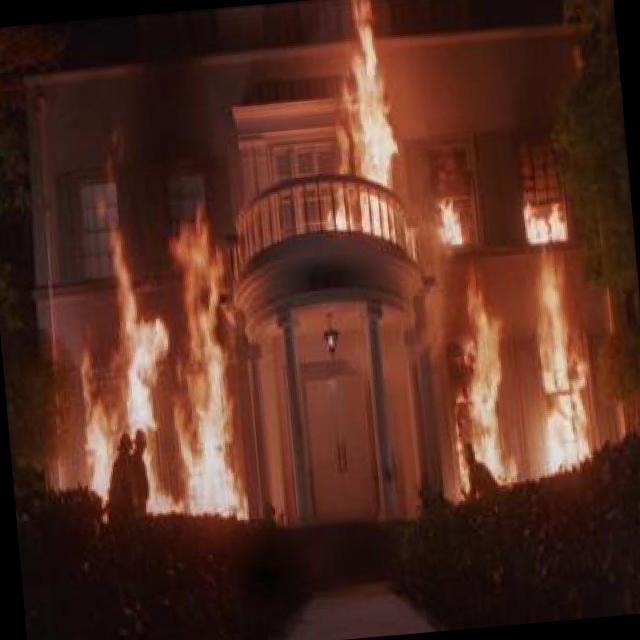Fire: (64, 180, 248, 524), (430, 258, 522, 525), (326, 0, 409, 267), (525, 204, 590, 498), (430, 172, 472, 252)
